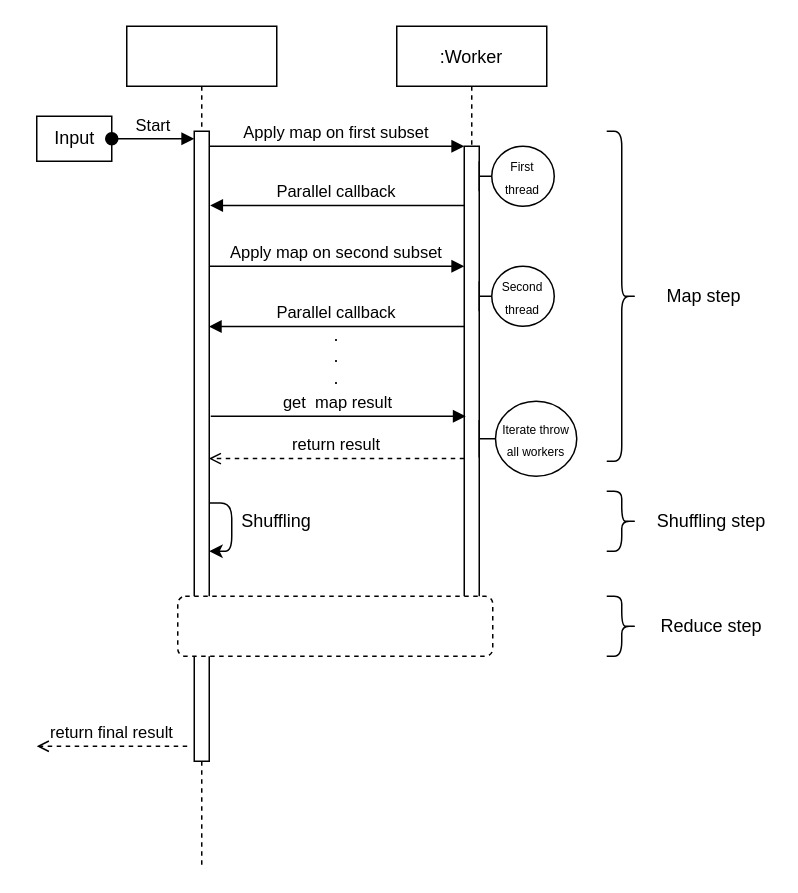
The diagram is 798 pixels wide and 893 high, and some of its shapes have lost their labels. Here are the shapes that lost their labels. From the top down, the box of each, then its label:
(125, 25, 277, 866): :MapReduce
(176, 595, 493, 656): Same thing that Map step but with reduce function
